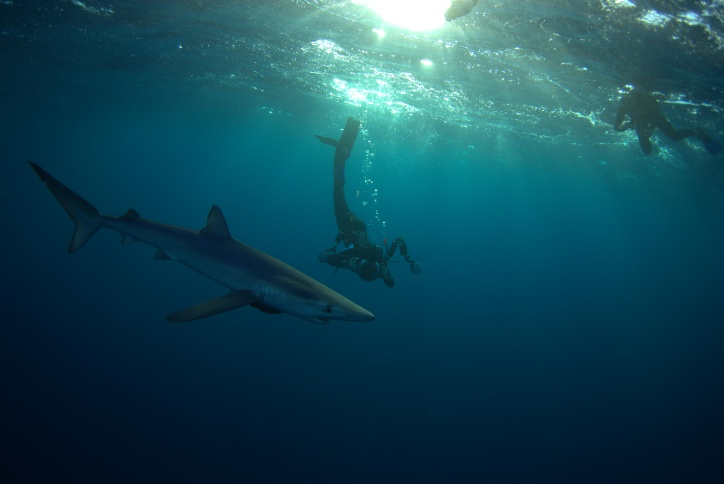Azul: (20, 158, 387, 356)
